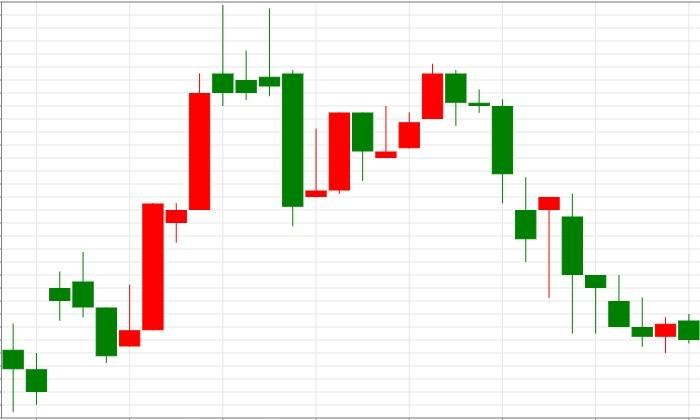shooting_star_fall: (118, 5, 233, 347)
